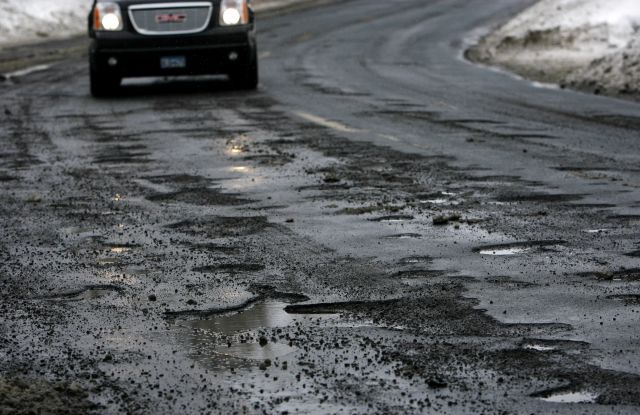pothole: (146, 286, 587, 353), (524, 369, 630, 406), (464, 234, 582, 261), (156, 213, 278, 238), (39, 279, 138, 304), (179, 255, 274, 276), (358, 209, 428, 237), (382, 262, 453, 283), (88, 232, 147, 256)
